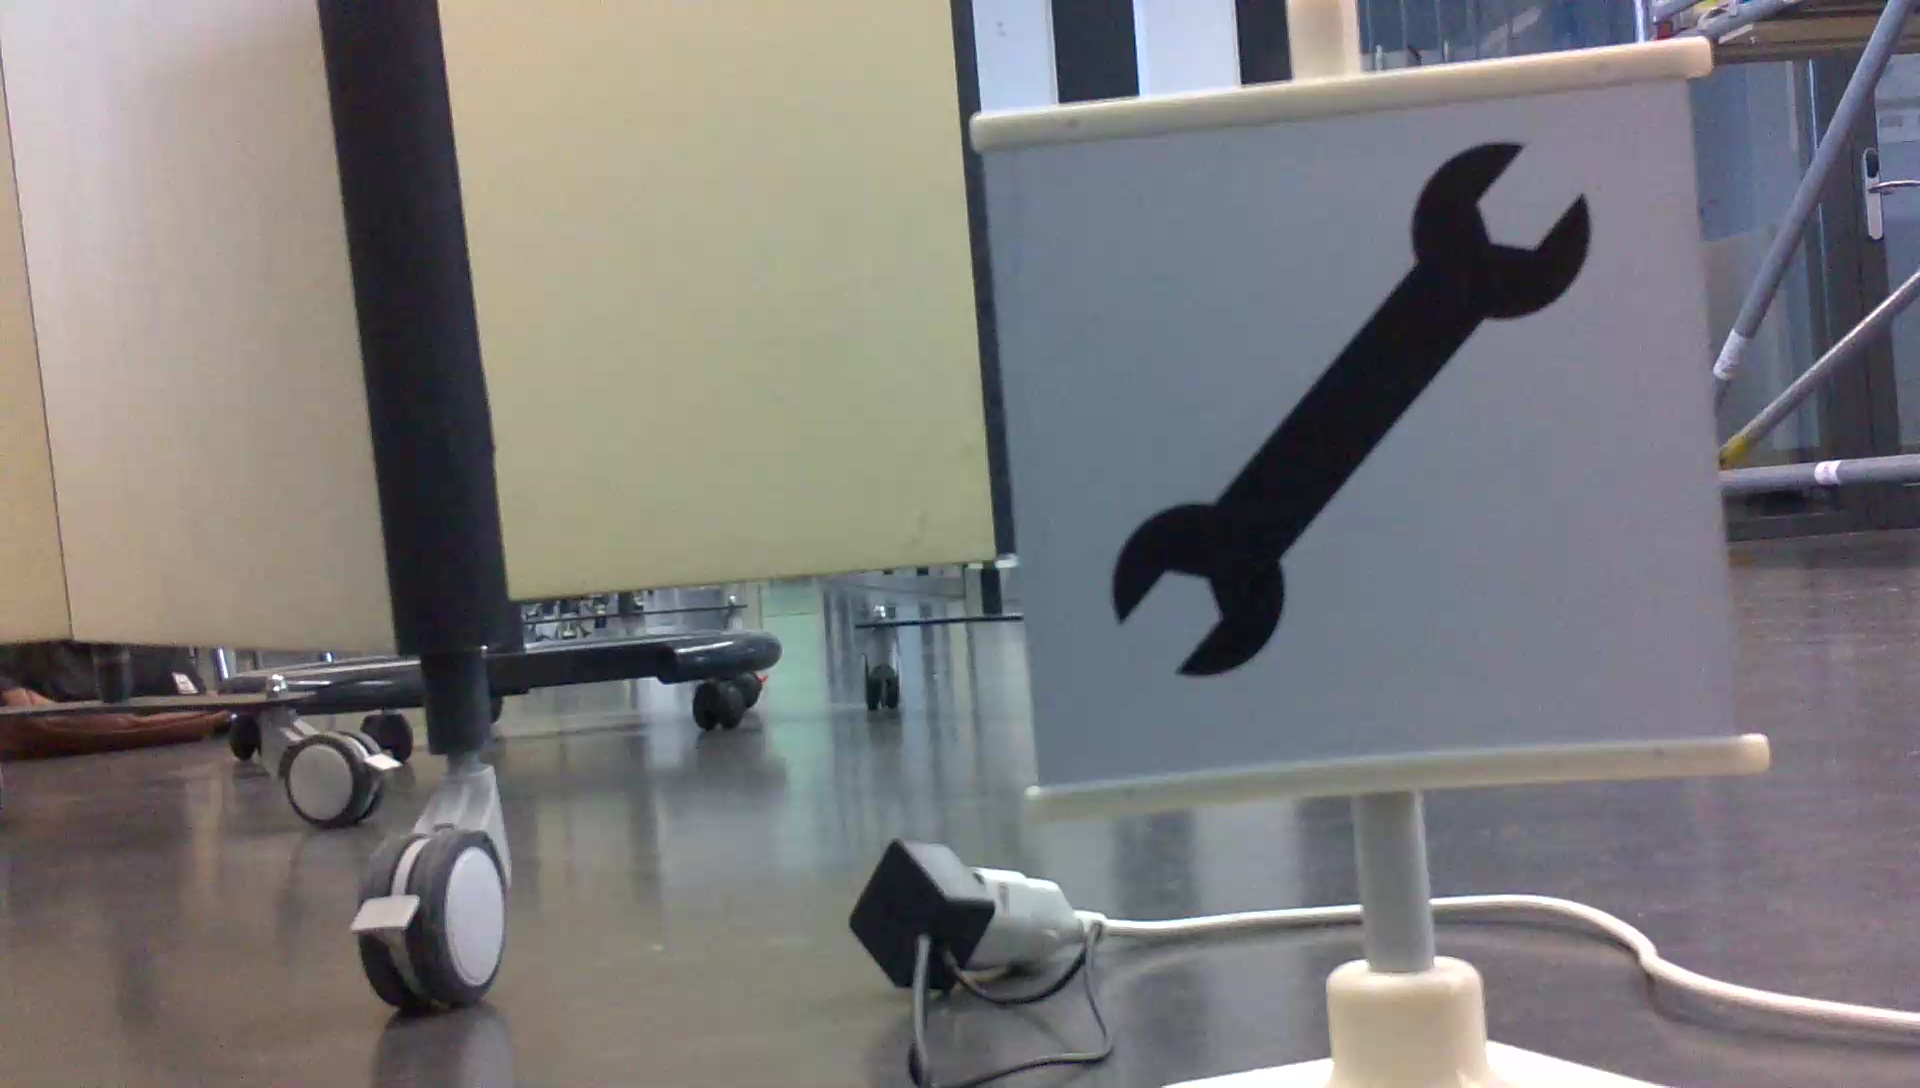wrench: (1102, 129, 1597, 684)
